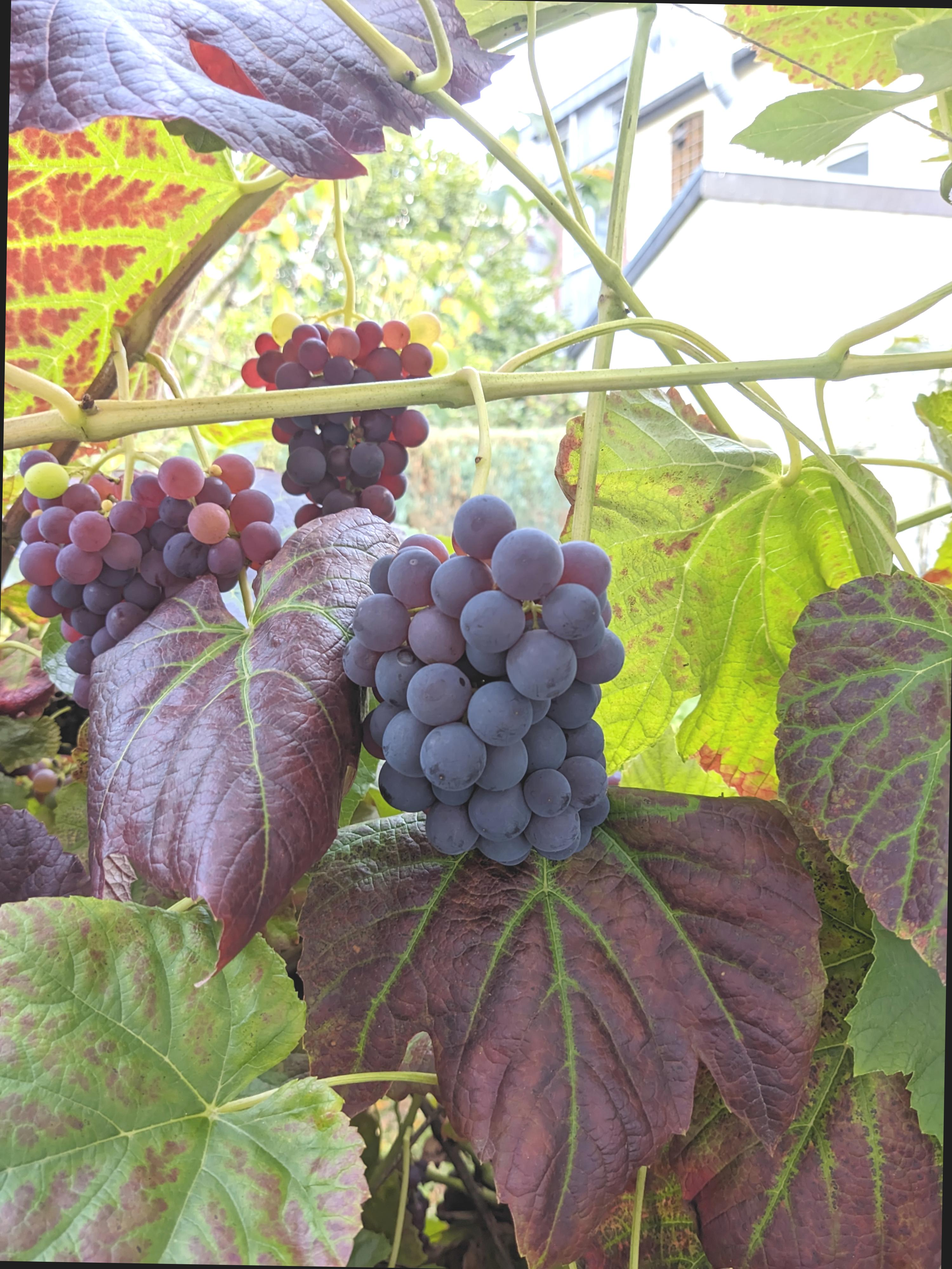Grape Unripe: (351, 482, 640, 863), (25, 441, 294, 702), (249, 301, 462, 522), (38, 746, 69, 787)
